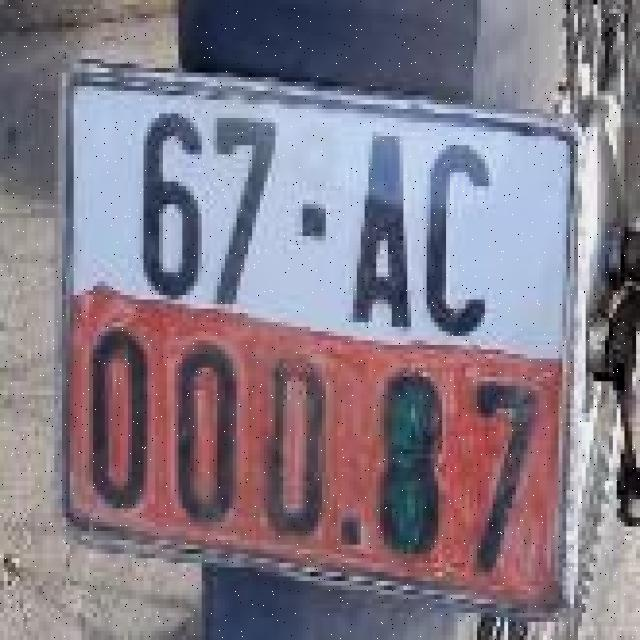0: (167, 336, 248, 535), (260, 345, 333, 549), (83, 320, 157, 515)
6: (132, 109, 213, 304)
7: (465, 366, 547, 574), (208, 102, 285, 316)
8: (362, 365, 456, 565)
A: (355, 125, 421, 343)
C: (425, 141, 506, 340)
